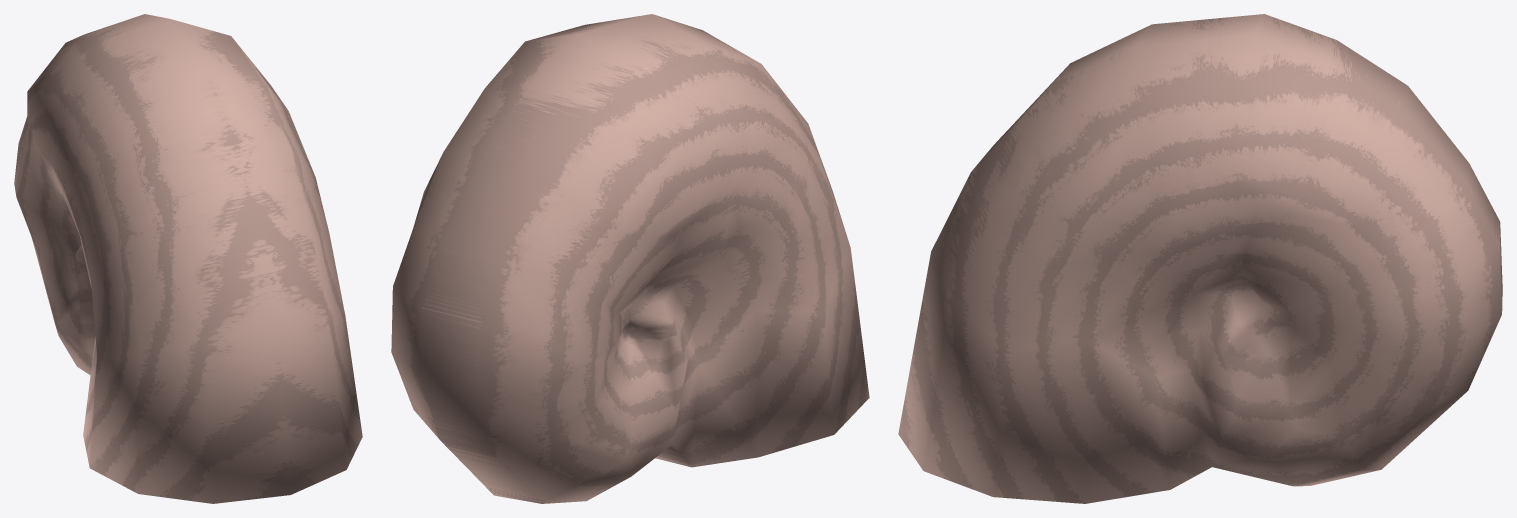
Rendered from Tropics Nautilus Plain.fbx.
The picture shows the model from 3 angles, left to right: view 1: azimuth 30°, elevation 25°; view 2: azimuth 150°, elevation 25°; view 3: azimuth 270°, elevation 25°; orthographic projection. The views are drawn at different scales.
Visible parts, largest first — view 1: Nautilus; view 2: Nautilus; view 3: Nautilus.
Part boxes in pixels (left/top/right/bottom): Nautilus: left=14, top=14, right=362, bottom=503; Nautilus: left=391, top=14, right=869, bottom=503; Nautilus: left=898, top=14, right=1502, bottom=503.
Size of the model in its own units: 1444 by 2164 by 2664.
